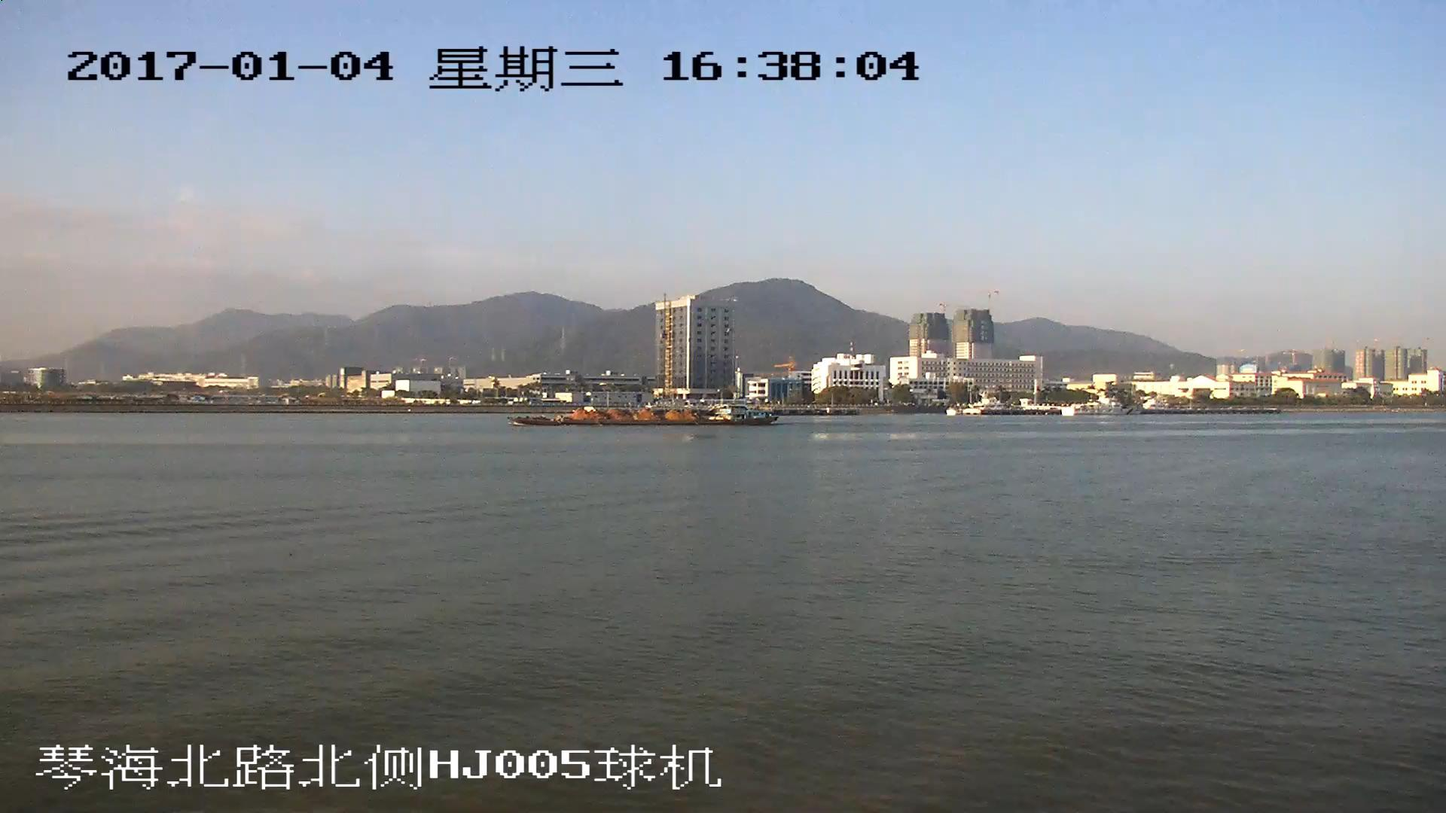ore carrier: (520, 404, 773, 427)
